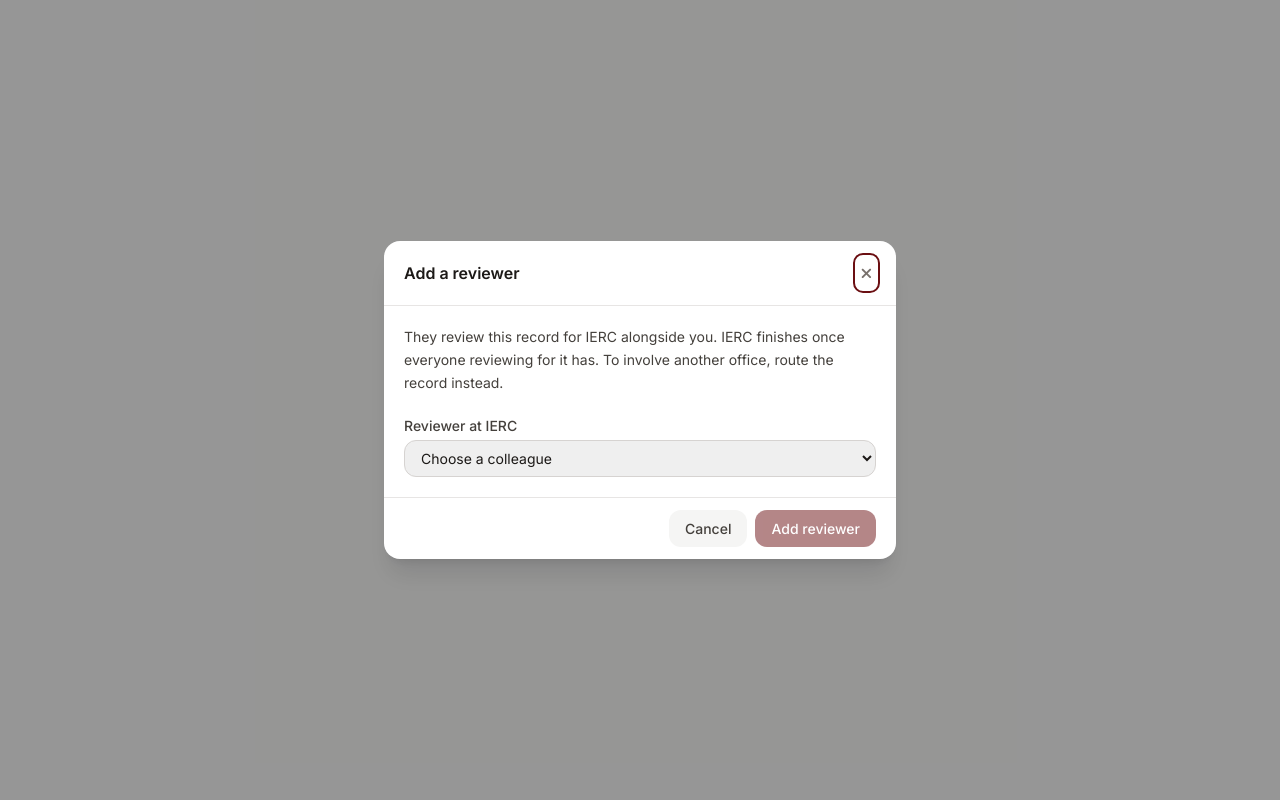
Test: AddReviewerDialog › says why when the server refuses
Select "Ivan Erc" in the dropdown labelled "Reviewer at IERC" at [640, 458], box [404,440,876,477]
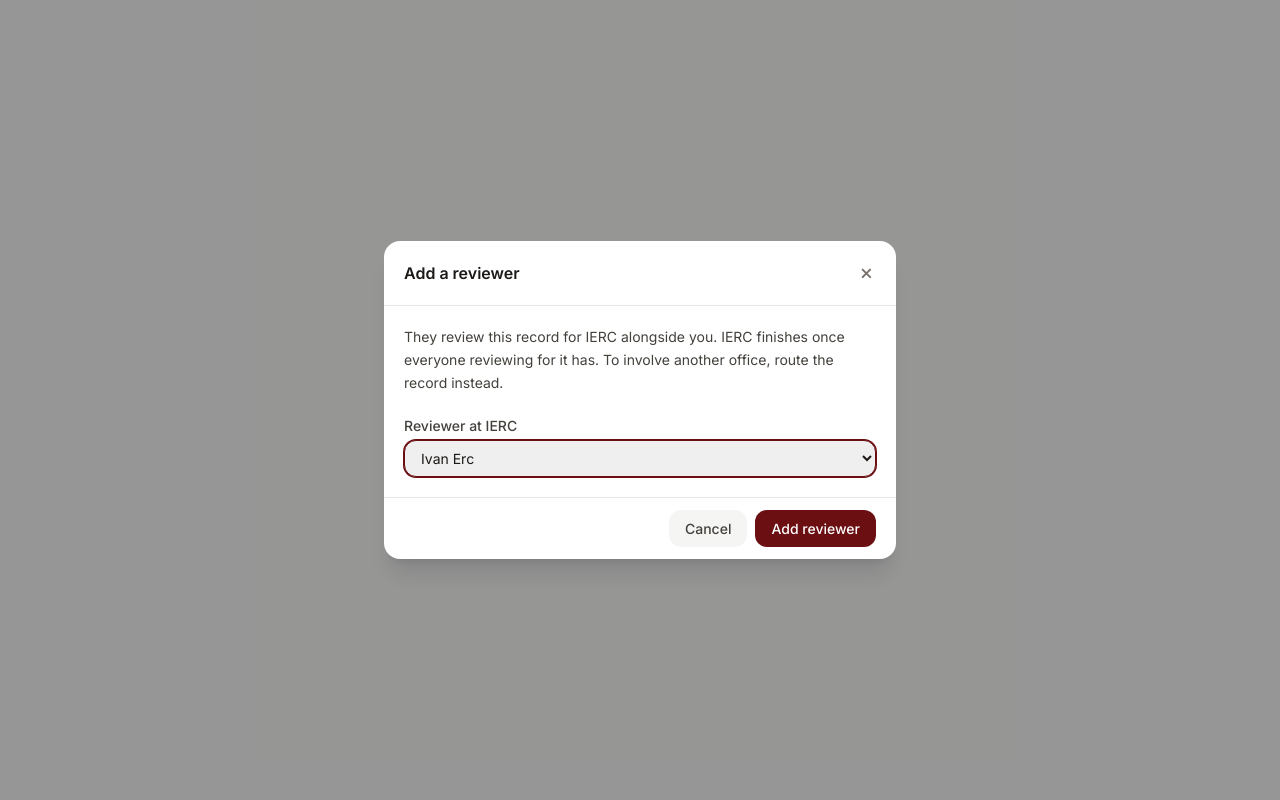
Click the button "Add reviewer" at [816, 528], box [756,510,876,547]
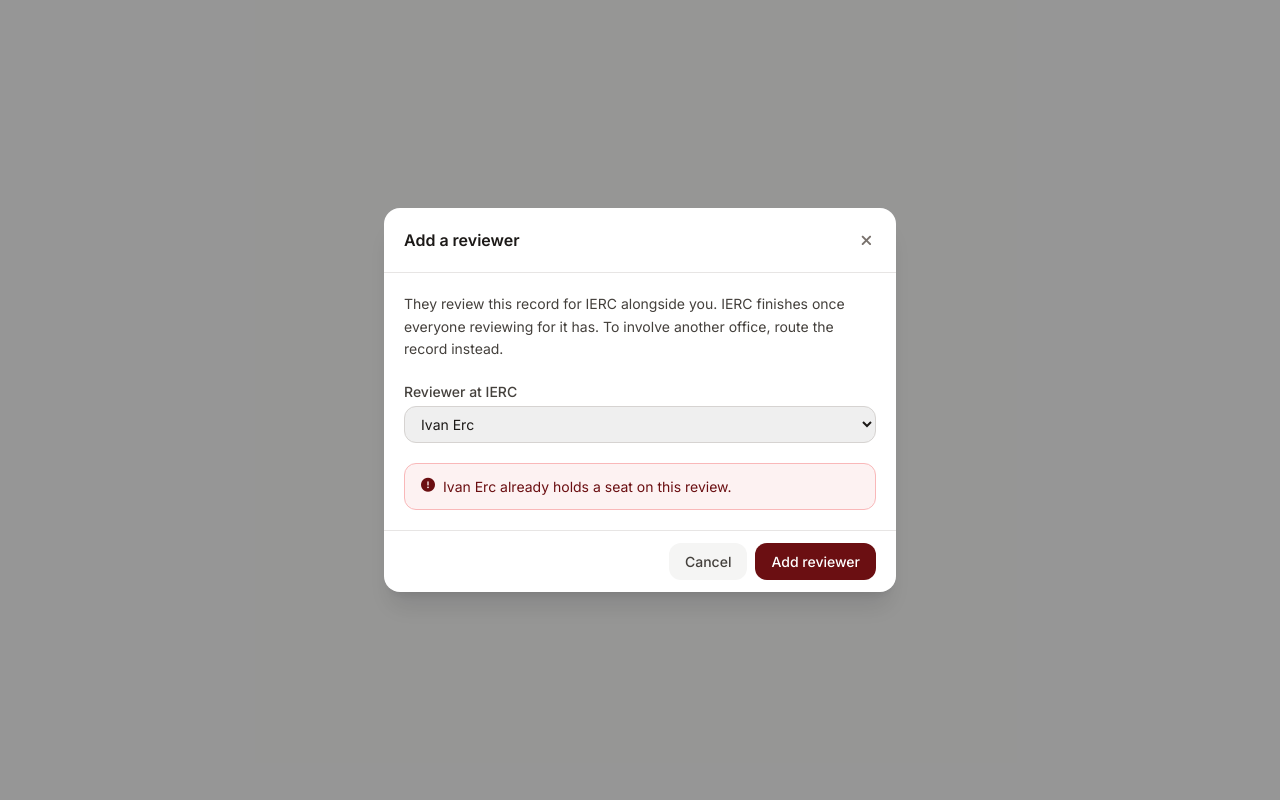
Expected: the message shows "already holds a seat", [443,478,732,495]
